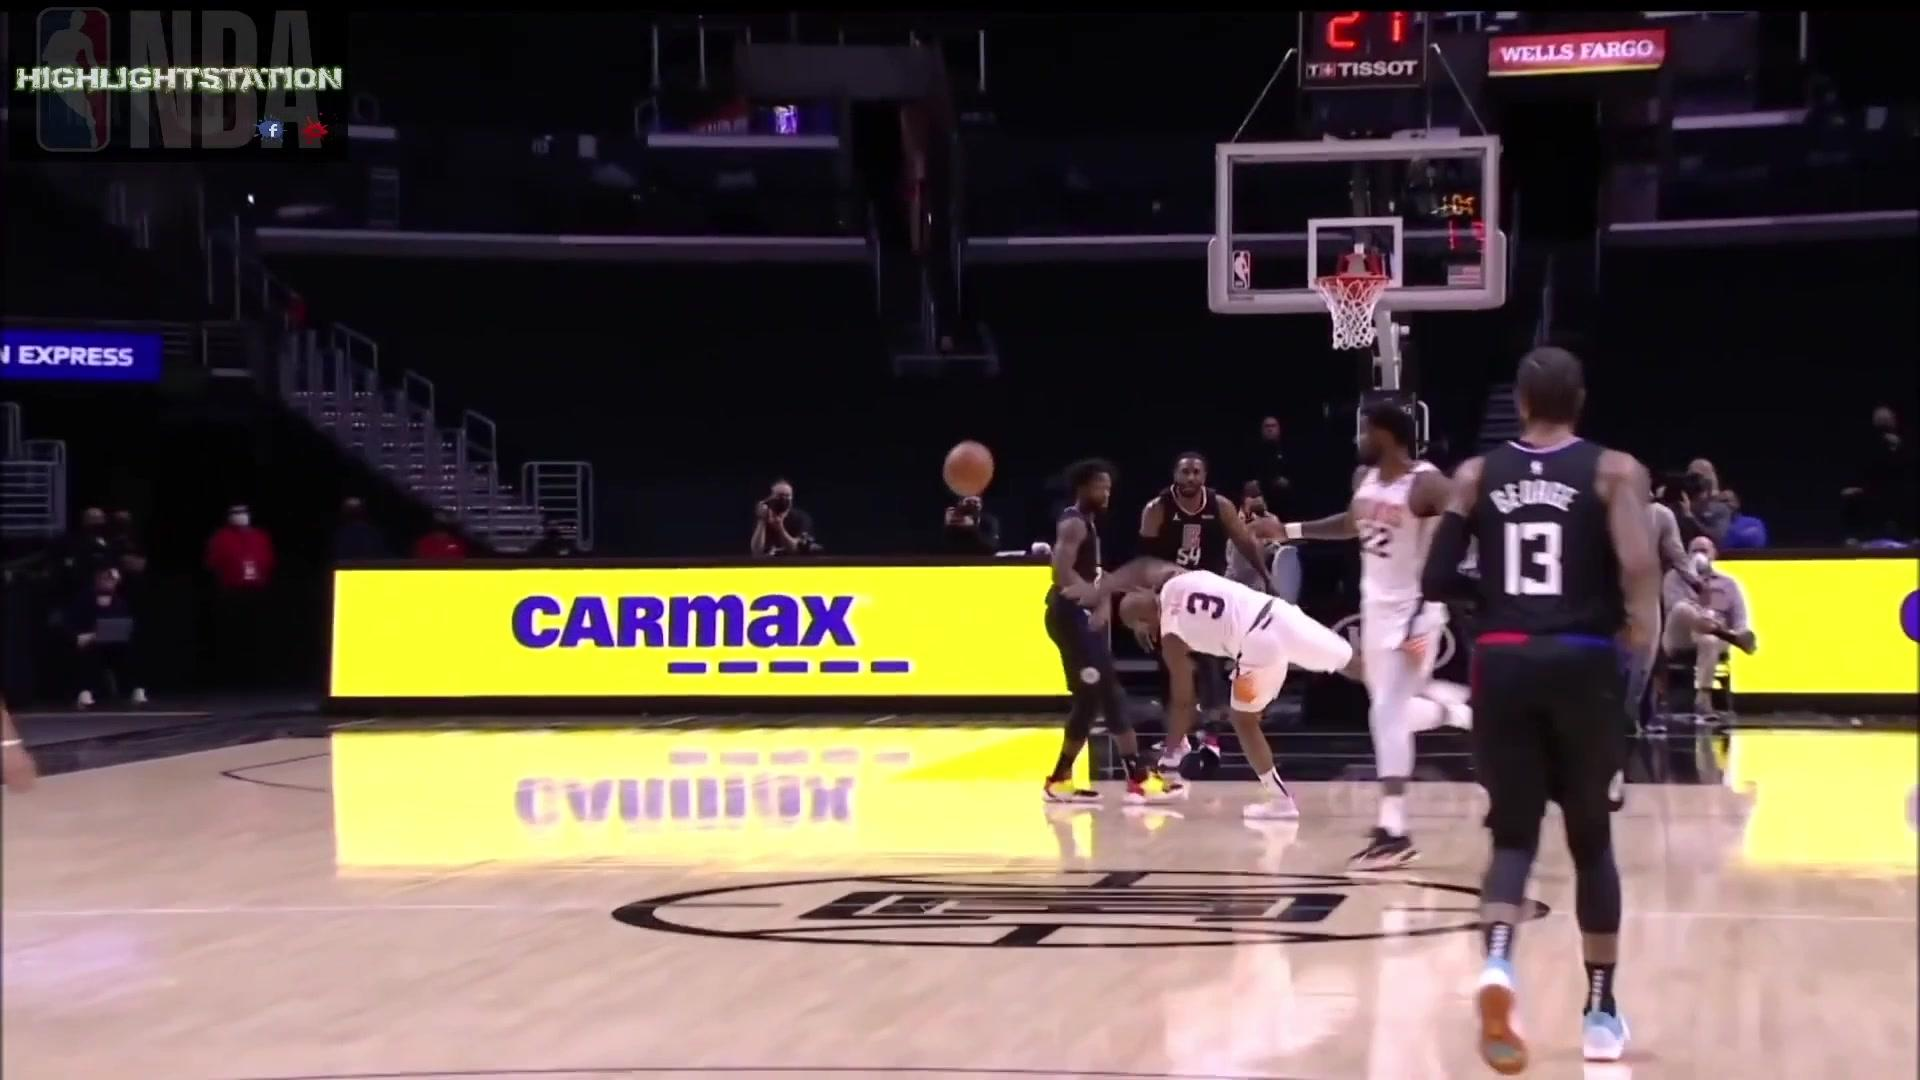foul: (1011, 471, 1321, 806)
